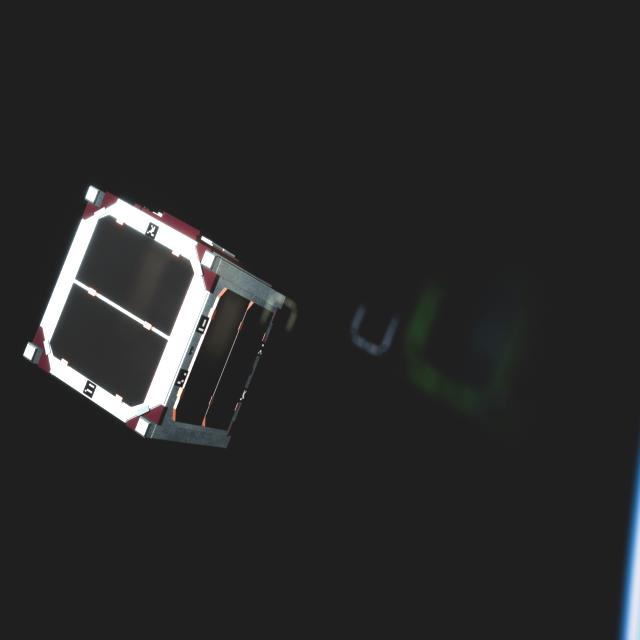satellite: (17, 181, 297, 447)
